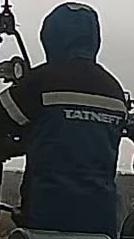vest: (2, 63, 125, 233)
